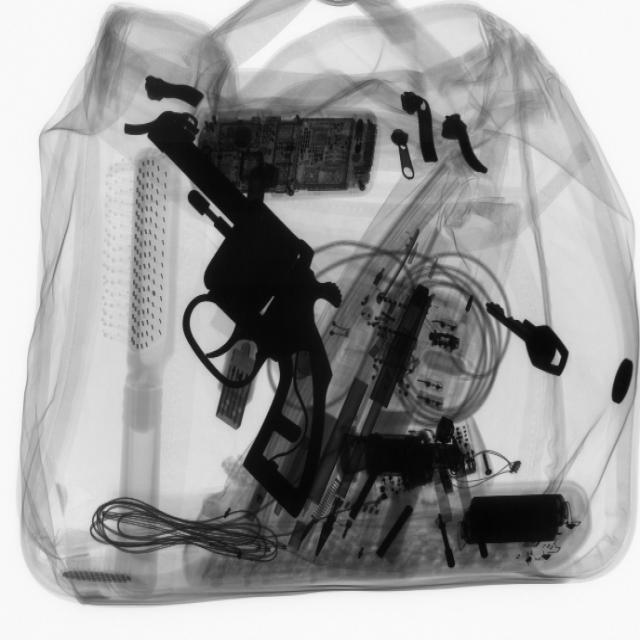GUN: (154, 115, 343, 519)
